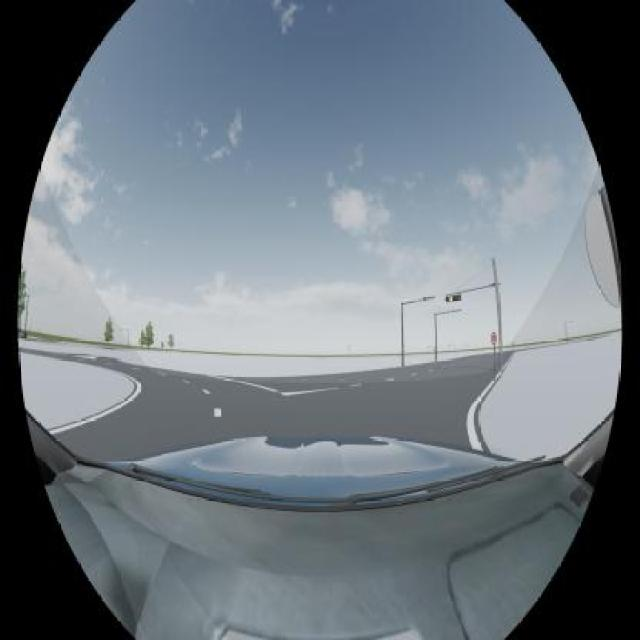forb_speed_over_100: (491, 332, 497, 345)
